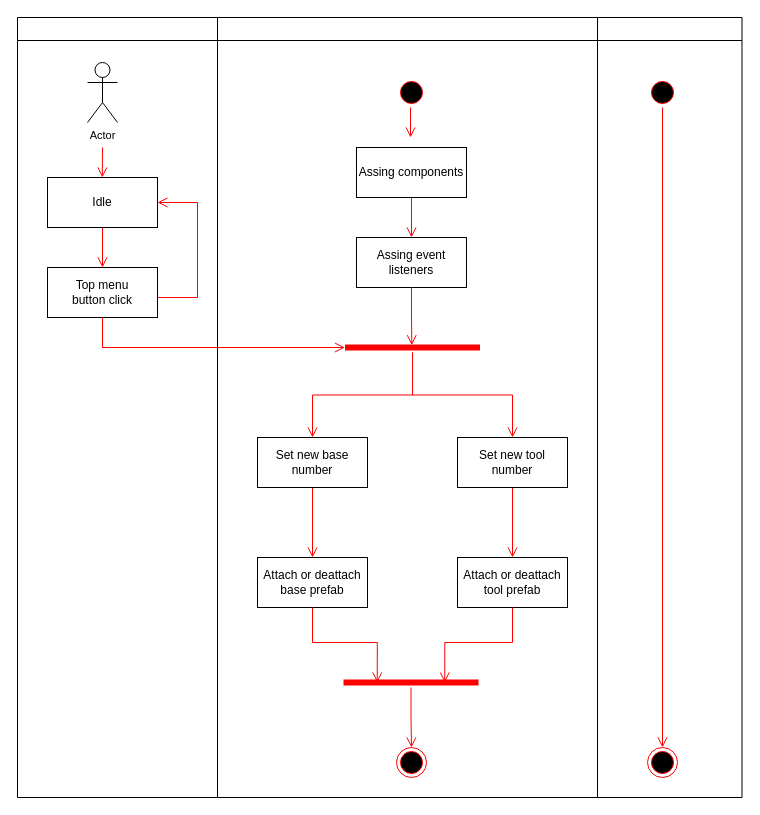
Image size: 760x815. Some labels were removed from this diagram. Each missing label, with the box of its shape:
Behavoir: (596, 16, 742, 798)
Controler: (216, 16, 598, 798)
View: (16, 16, 218, 798)
